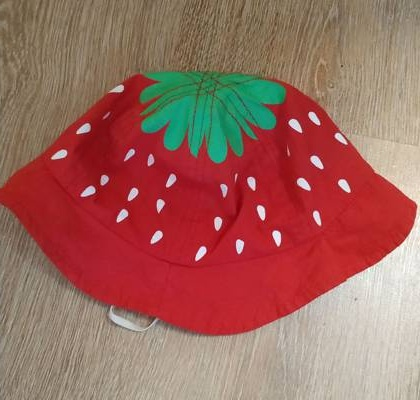Hat: (6, 48, 408, 344)
